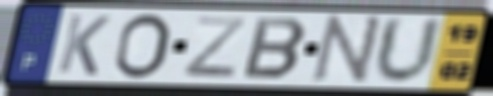B: (239, 15, 310, 82)
K: (54, 12, 114, 78)
N: (308, 13, 387, 87)
O: (110, 12, 173, 81)
U: (371, 14, 446, 88)
Z: (180, 15, 250, 81)
